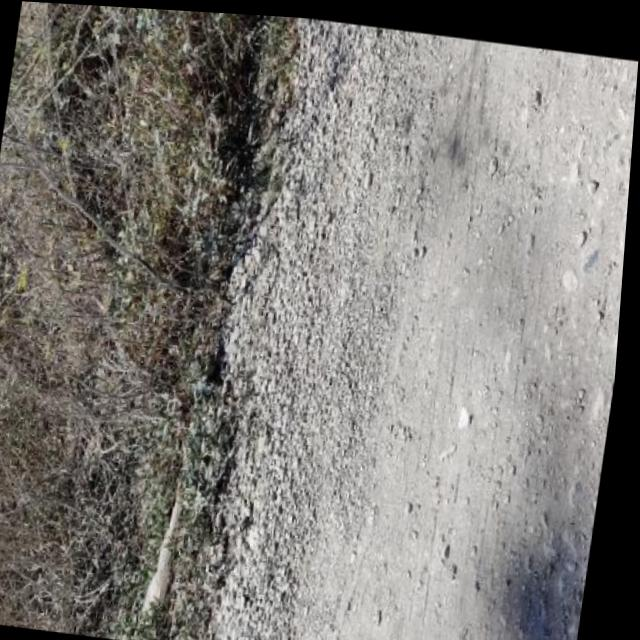plastic: (141, 489, 184, 620)
